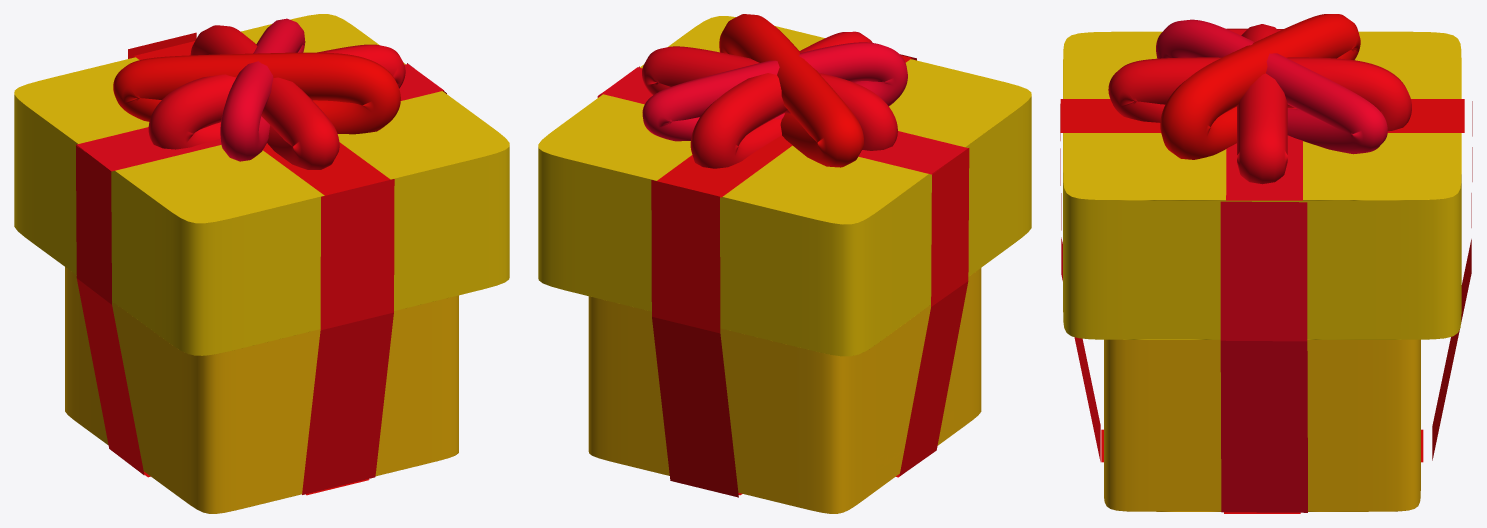
File: regalo.glb
The picture shows the model from 3 angles, left to right: view 1: azimuth 30°, elevation 25°; view 2: azimuth 150°, elevation 25°; view 3: azimuth 270°, elevation 25°; orthographic projection. The views are drawn at different scales.
Visible parts, largest first — view 1: Cube.001, Cube, Plane.001, NurbsPath.003, Plane.005, NurbsPath, NurbsPath.001, NurbsPath.002, Plane.006, Plane.002, Plane.003; view 2: Cube.001, Cube, Plane.003, Plane.005, NurbsPath.003, NurbsPath.002, NurbsPath, NurbsPath.001, Plane.006, Plane.002; view 3: Cube.001, Cube, Plane.004, NurbsPath.003, NurbsPath.002, NurbsPath, NurbsPath.001, Plane.002, Plane.006, Plane.003, Plane.001.
Boxes of the visible parts, bbox=[...] form: Cube.001: bbox=[14, 14, 509, 355]; Cube: bbox=[65, 267, 458, 513]; Plane.001: bbox=[302, 179, 394, 494]; NurbsPath.003: bbox=[113, 52, 400, 134]; Plane.005: bbox=[76, 144, 144, 475]; NurbsPath: bbox=[190, 25, 339, 169]; NurbsPath.001: bbox=[148, 44, 405, 149]; NurbsPath.002: bbox=[220, 18, 305, 161]; Plane.006: bbox=[76, 64, 443, 171]; Plane.002: bbox=[134, 41, 390, 195]; Plane.003: bbox=[128, 32, 196, 58]; Cube.001: bbox=[538, 16, 1031, 356]; Cube: bbox=[588, 268, 981, 513]; Plane.003: bbox=[651, 180, 738, 497]; Plane.005: bbox=[899, 148, 969, 476]; NurbsPath.003: bbox=[719, 14, 863, 167]; NurbsPath.002: bbox=[642, 42, 907, 141]; NurbsPath: bbox=[690, 31, 872, 168]; NurbsPath.001: bbox=[642, 46, 897, 150]; Plane.006: bbox=[601, 67, 967, 174]; Plane.002: bbox=[657, 55, 911, 197]; Cube.001: bbox=[1063, 31, 1461, 339]; Cube: bbox=[1104, 339, 1420, 511]; Plane.004: bbox=[1220, 201, 1307, 512]; NurbsPath.003: bbox=[1160, 14, 1360, 159]; NurbsPath.002: bbox=[1156, 19, 1387, 154]; NurbsPath: bbox=[1108, 57, 1411, 131]; NurbsPath.001: bbox=[1237, 24, 1287, 184]; Plane.002: bbox=[1060, 99, 1464, 132]; Plane.006: bbox=[1226, 29, 1302, 200]; Plane.003: bbox=[1432, 101, 1472, 460]; Plane.001: bbox=[1060, 104, 1100, 461].
Bounding box in the file's own units: 2.57 × 2.8 × 2.6.
